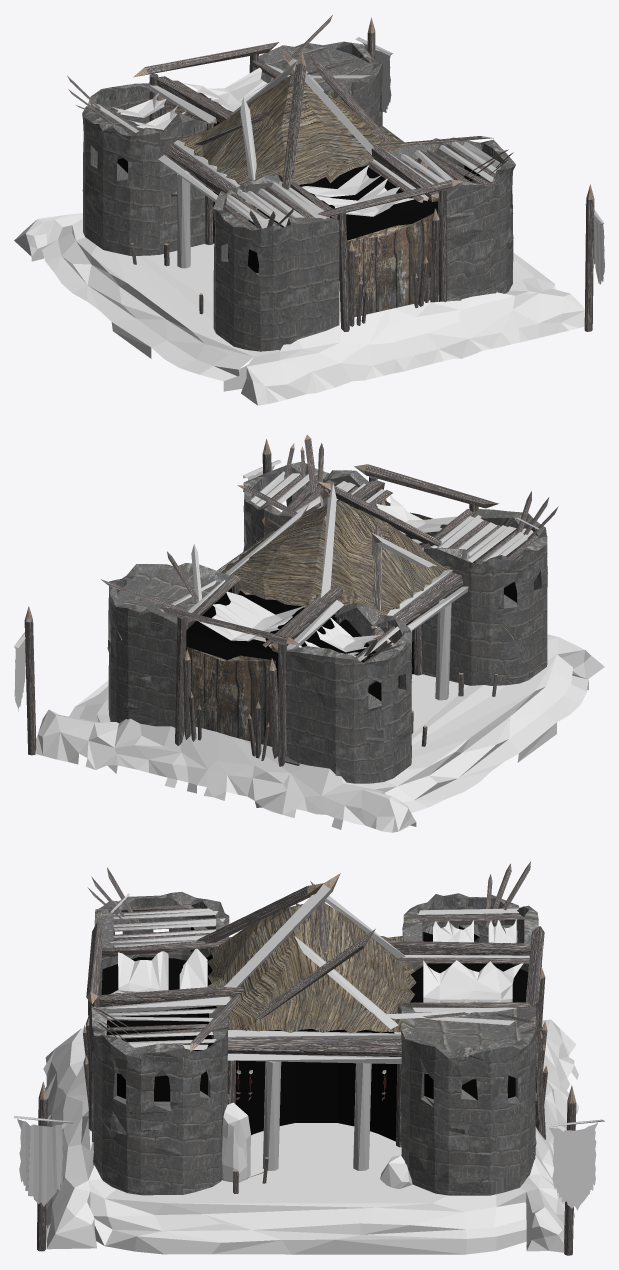
The model's file is barrack.fbx.
3 renders of one model, top to bottom at view 1: azimuth 30°, elevation 25°; view 2: azimuth 150°, elevation 25°; view 3: azimuth 270°, elevation 25°, orthographic. The views are drawn at different scales.
Visible parts, largest first — view 1: Walec.215; view 2: Walec.215; view 3: Walec.215.
Boxes of the visible parts, x1,y1,x2,y2 form: Walec.215: [14, 15, 604, 405]; Walec.215: [14, 434, 604, 832]; Walec.215: [14, 861, 604, 1255].
Size of the model in its own units: 4793 by 2824 by 5500.
